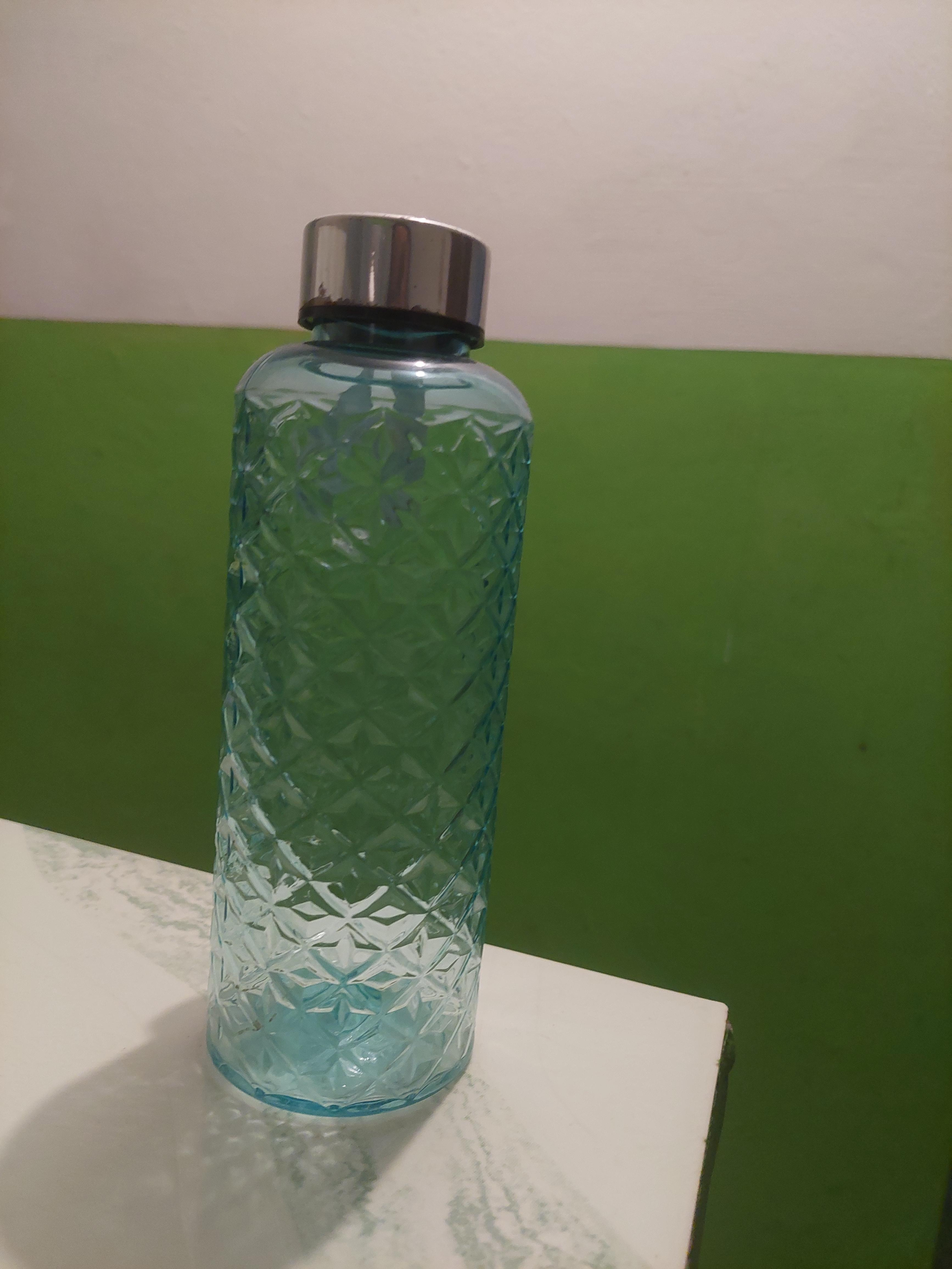bottle: (206, 214, 534, 1120)
